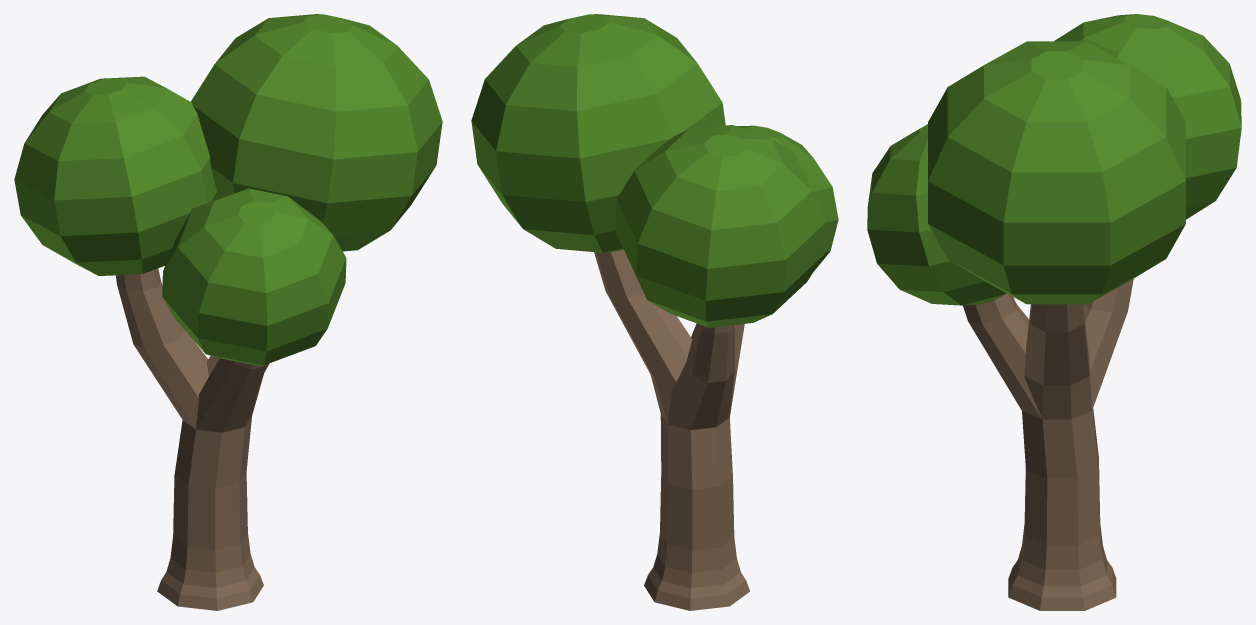
File: Tree4.fbx
3 views of the same model, side by side, from view 1: azimuth 30°, elevation 25°; view 2: azimuth 150°, elevation 25°; view 3: azimuth 270°, elevation 25° (orthographic). The views are drawn at different scales.
Visible parts, largest first — view 1: mergedBlocks; view 2: mergedBlocks; view 3: mergedBlocks.
Boxes of the visible parts, x1,y1,x2,y2 form: mergedBlocks: (14,14,442,610); mergedBlocks: (471,14,838,610); mergedBlocks: (867,14,1241,610).
Bounding box in the file's own units: 33.63 × 49.96 × 28.87.
